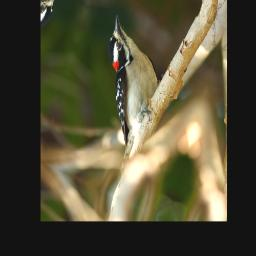Woodpecker: (72, 11, 176, 181)
